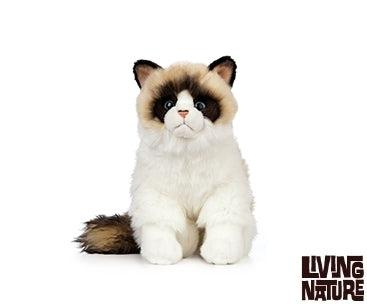ragdoll: (130, 53, 243, 148)
